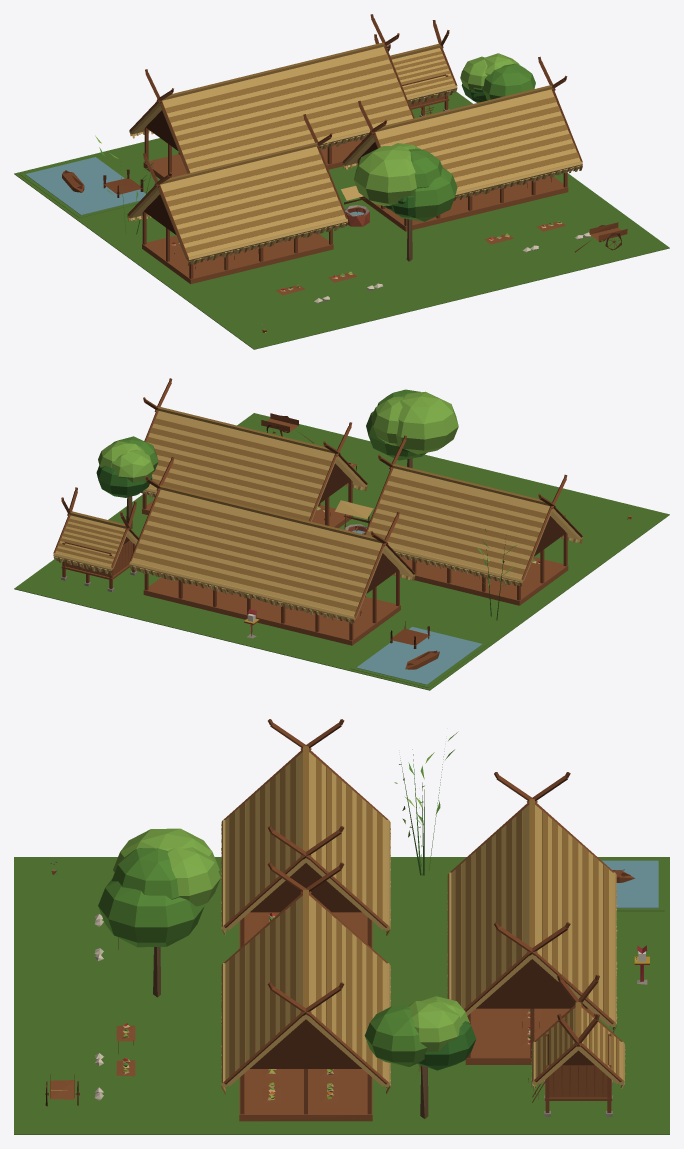
The model's file is shop_5.glb.
The picture shows the model from 3 angles, top to bottom: view 1: azimuth 30°, elevation 25°; view 2: azimuth 150°, elevation 25°; view 3: azimuth 270°, elevation 25°; orthographic projection. The views are drawn at different scales.
Visible parts, largest first — view 1: body; view 2: body; view 3: body.
Part boxes in pixels (x1,y1,x2,y2): body: (14, 14, 669, 349); body: (14, 378, 669, 690); body: (14, 719, 669, 1134).
Bounding box in the file's own units: 32.22 × 8.51 × 31.9.
